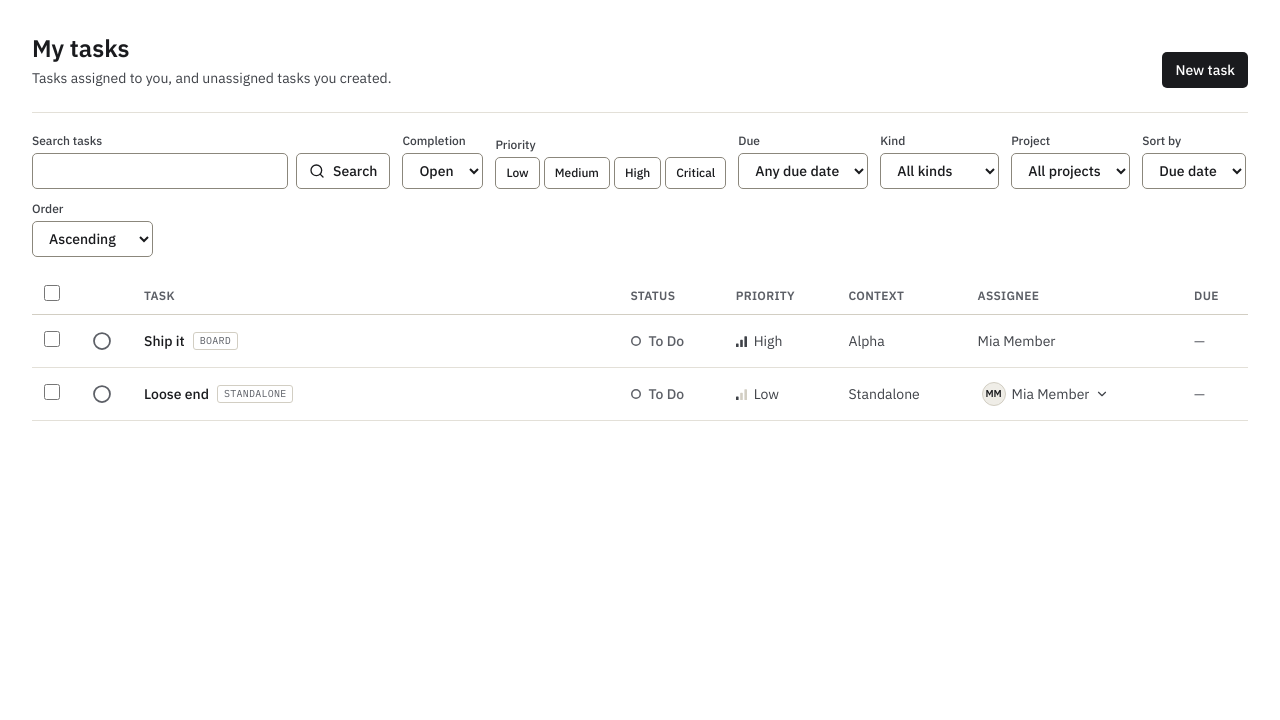
Scenario: create dialog and pagination › opens the create dialog from the page header action
The width and height of the screenshot is (1280, 720).
Click the button "New task".
click(1205, 70)  # box [1162,52,1248,88]
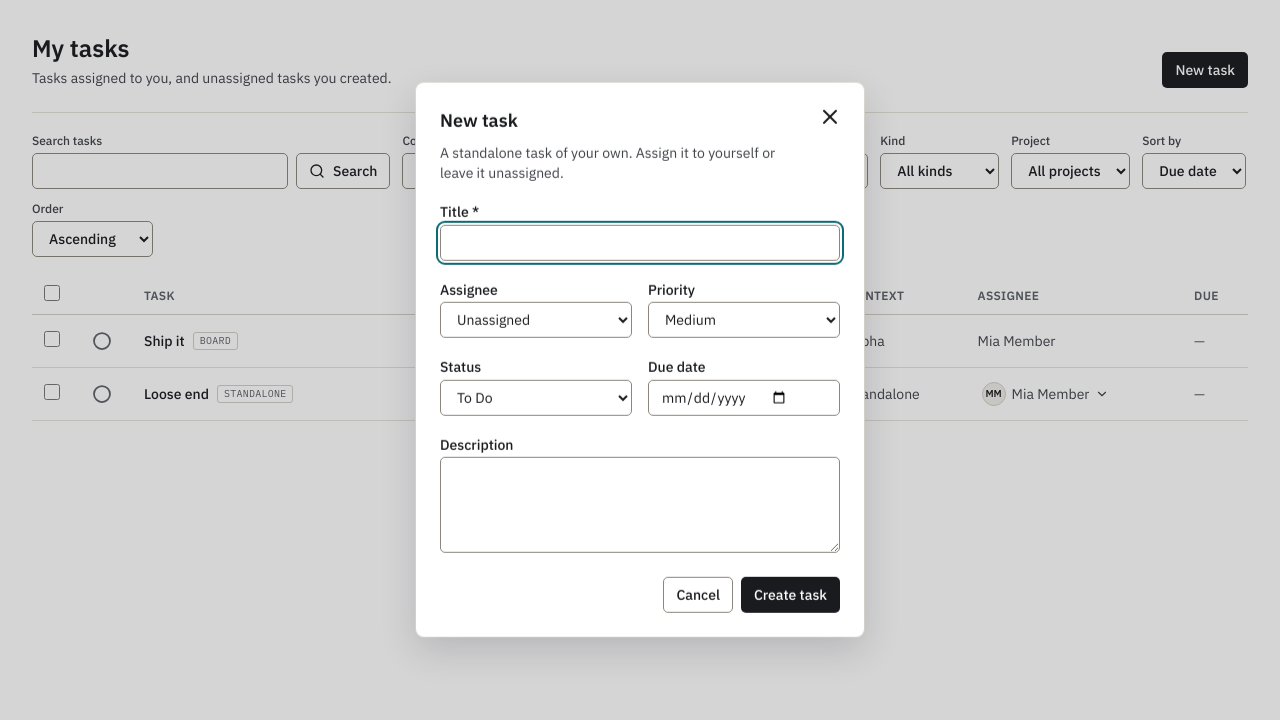
Check: the dialog "New task" is shown, box [416,83,864,637]
